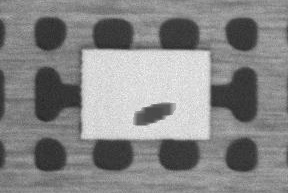DIE_INK: (132, 100, 177, 126)
